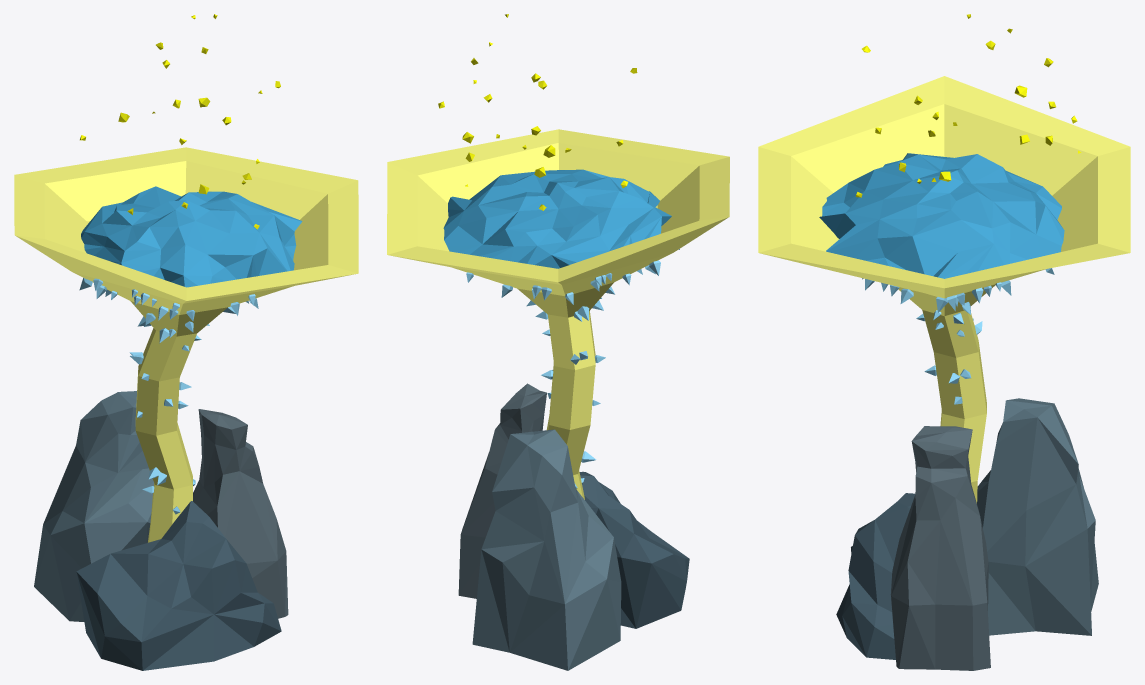
The model's file is RH_Tree02.fbx.
3 views of the same model, side by side, from view 1: azimuth 30°, elevation 25°; view 2: azimuth 150°, elevation 25°; view 3: azimuth 270°, elevation 25° (orthographic). The views are drawn at different scales.
Parts seen in each view (by area): view 1: RH_Tree02; view 2: RH_Tree02; view 3: RH_Tree02.
Part boxes in pixels (x1=…): RH_Tree02: x1=14, y1=14, x2=358, y2=670; RH_Tree02: x1=387, y1=14, x2=729, y2=670; RH_Tree02: x1=758, y1=14, x2=1130, y2=670.
Bounding box in the file's own units: 187 × 304 × 162.
1 material, 1 textured.
